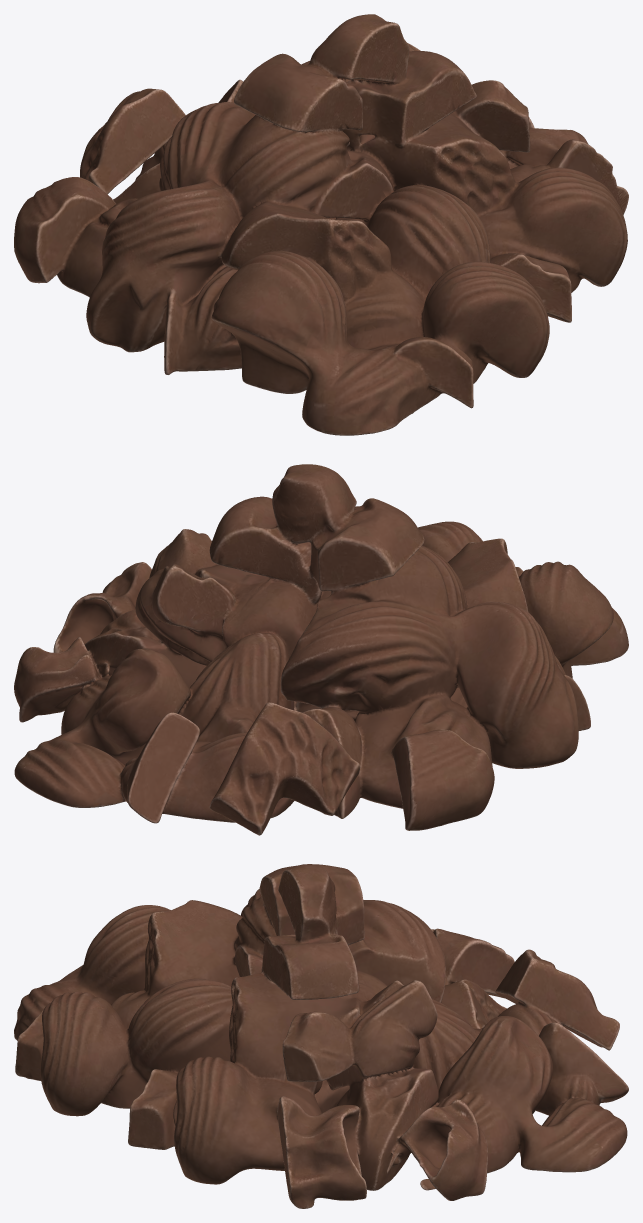
The model's file is parati-bolsa-fruta-sin.glb.
3 views of the same model, one above another, from view 1: azimuth 30°, elevation 25°; view 2: azimuth 150°, elevation 25°; view 3: azimuth 270°, elevation 25° (orthographic). The views are drawn at different scales.
Visible parts, largest first — view 1: RealWorldScale; view 2: RealWorldScale; view 3: RealWorldScale.
Part boxes in pixels (x1,y1,x2,y2): RealWorldScale: [14, 14, 628, 435]; RealWorldScale: [14, 464, 628, 835]; RealWorldScale: [14, 864, 628, 1208].
Bounding box in the file's own units: 0.1627 × 0.0749 × 0.18.
1 material, 1 textured.
